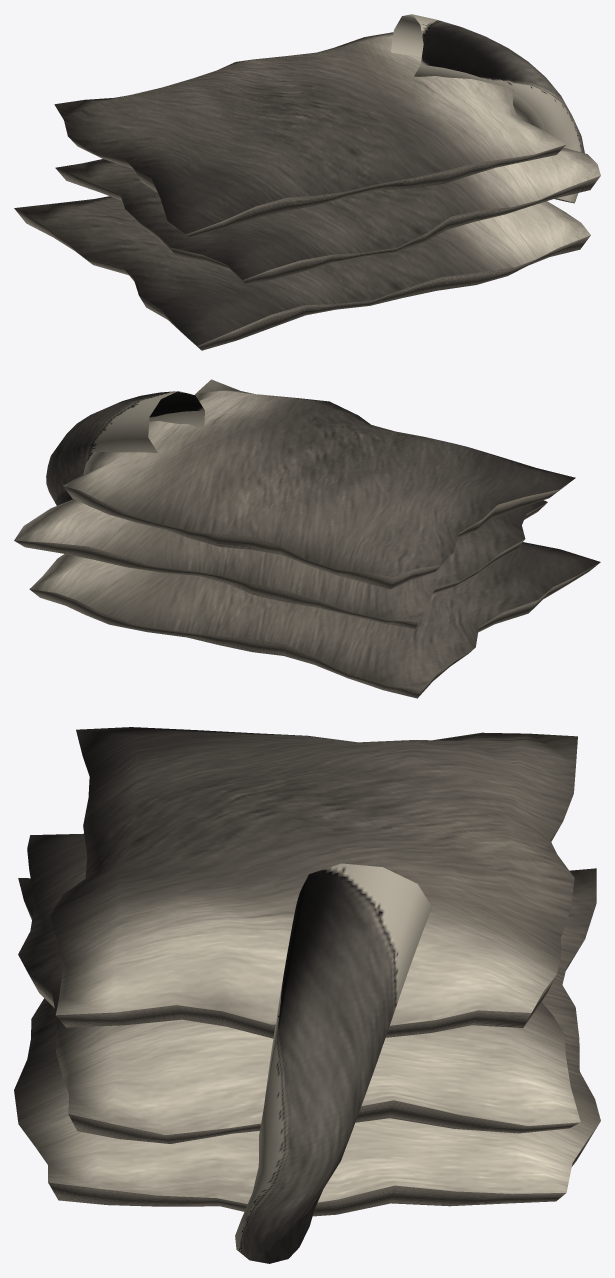
File: wolf_pelt.gltf
The picture shows the model from 3 angles, top to bottom: view 1: azimuth 30°, elevation 25°; view 2: azimuth 150°, elevation 25°; view 3: azimuth 270°, elevation 25°; orthographic projection. The views are drawn at different scales.
Visible parts, largest first — view 1: Pelt; view 2: Pelt; view 3: Pelt.
Boxes of the visible parts, x1,y1,x2,y2 form: Pelt: (14,14,600,350); Pelt: (14,379,600,698); Pelt: (14,727,600,1263).
Size of the model in its own units: 0.4421 by 0.1712 by 0.2997.
2 materials, 2 textured.
